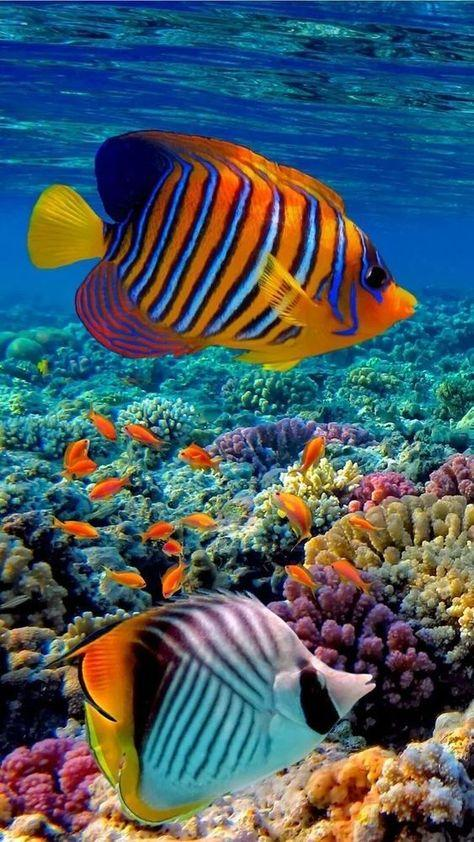fish: (30, 127, 419, 369), (76, 594, 376, 826), (274, 491, 312, 550), (330, 557, 375, 596), (51, 439, 89, 485), (288, 436, 326, 481), (179, 440, 224, 473), (162, 554, 192, 599), (84, 401, 117, 441), (285, 564, 324, 597), (100, 563, 146, 589), (123, 424, 164, 452), (51, 516, 99, 539), (90, 476, 132, 501), (134, 521, 176, 545), (180, 512, 218, 537), (349, 516, 385, 535), (65, 457, 97, 477), (162, 541, 184, 556)
